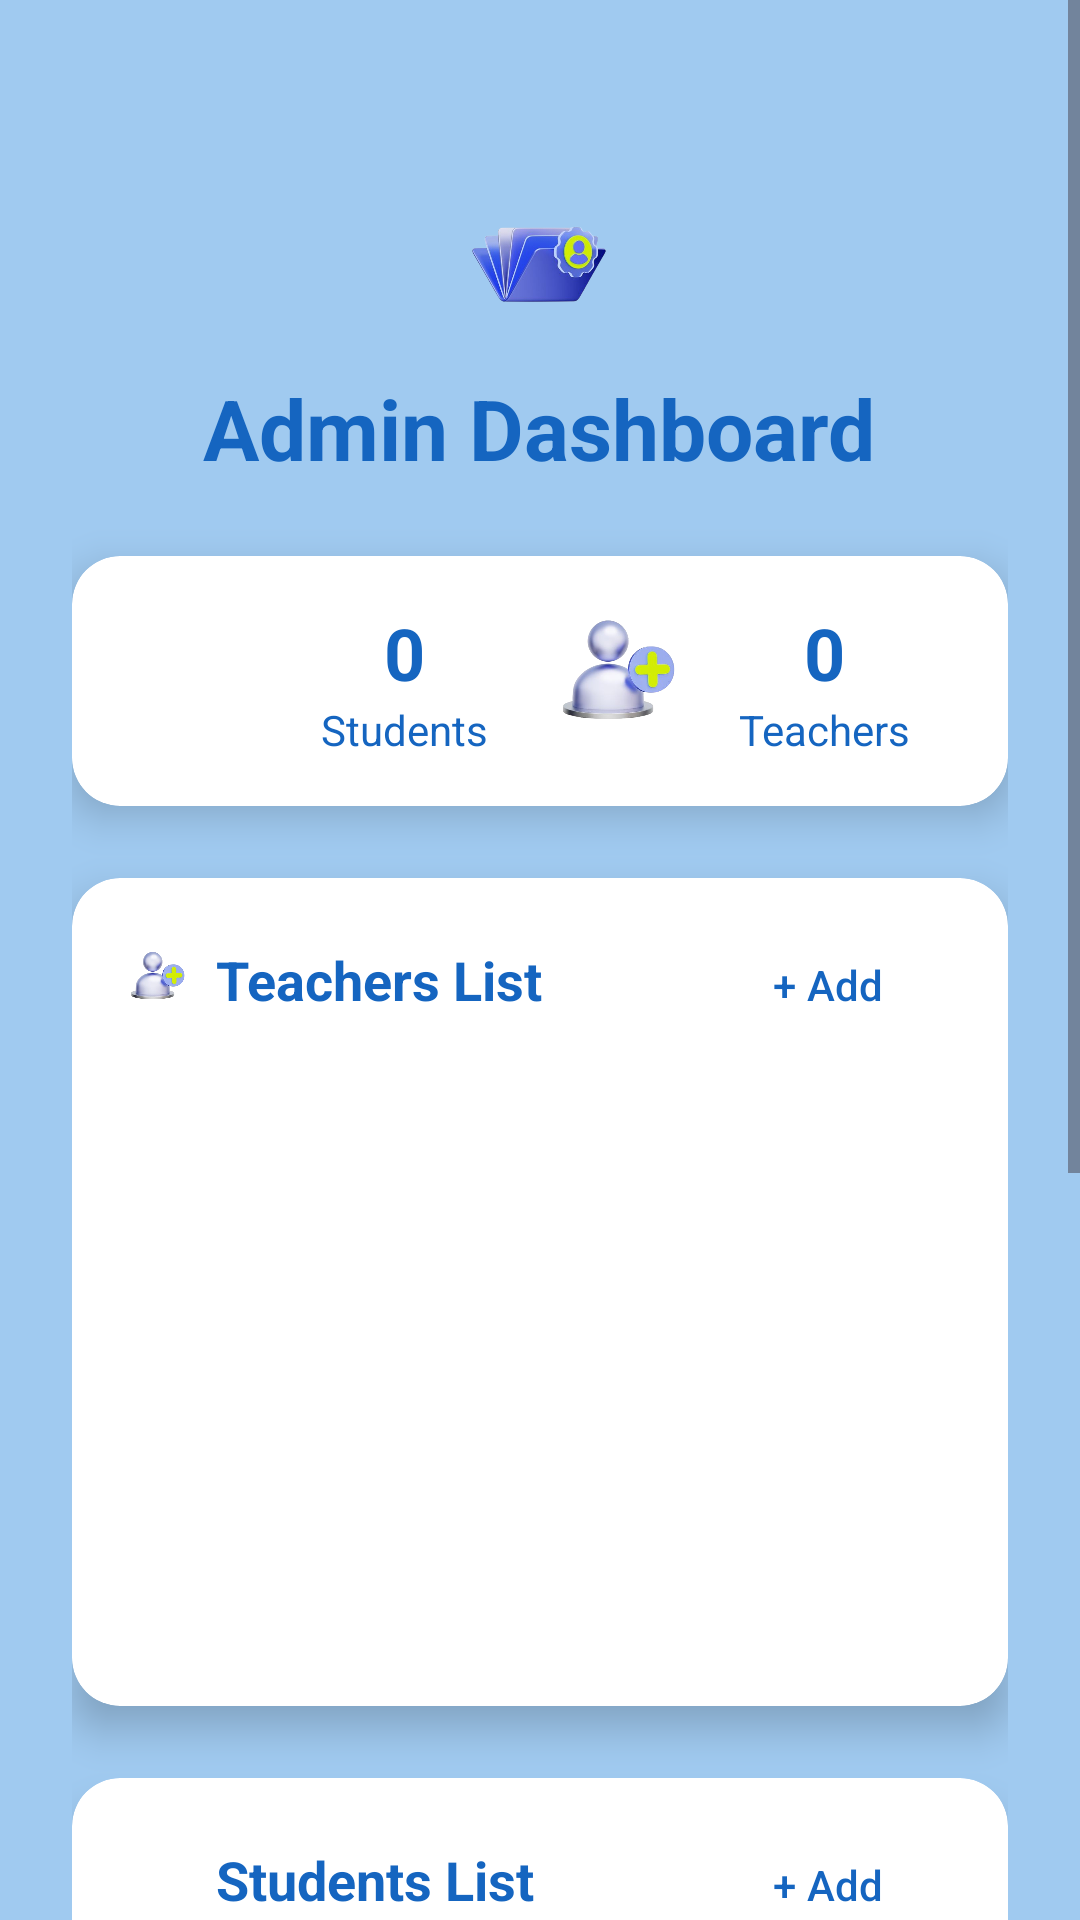

Screen size 1080w x 1920h. Icon name, then its center in pixels as (x,y):
add teacher: (618,669), (158,975)
